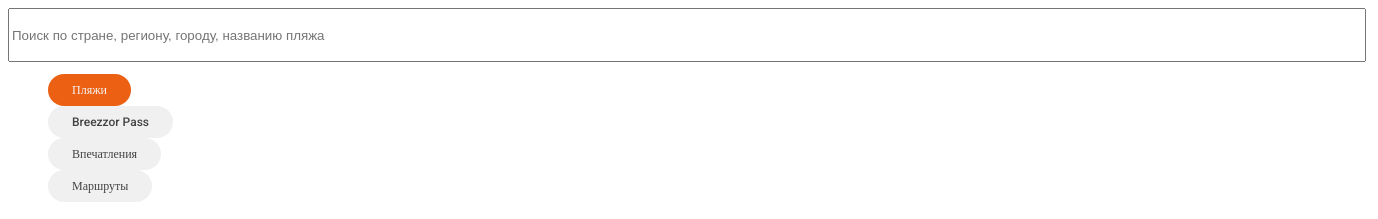
TextInput should be rendered with events › should be rendered element after click button with fixed placeholder
Click the button "Впечатления".
click(105, 154)  # box [48,138,161,170]
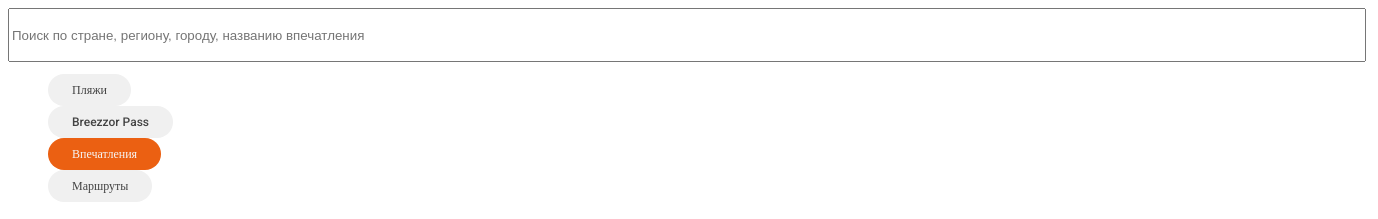
expect the field with placeholder "Поиск по стране, региону, городу, названию впечатления" is shown: met, box [8,8,1366,62]
